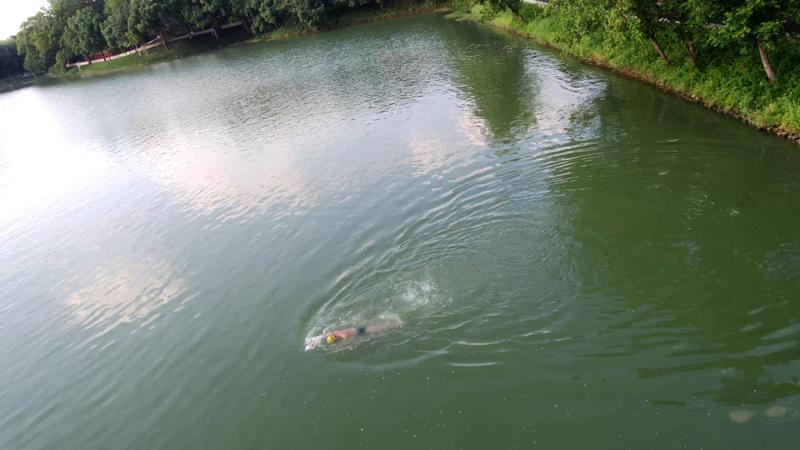swimmers: (310, 322, 395, 348)
